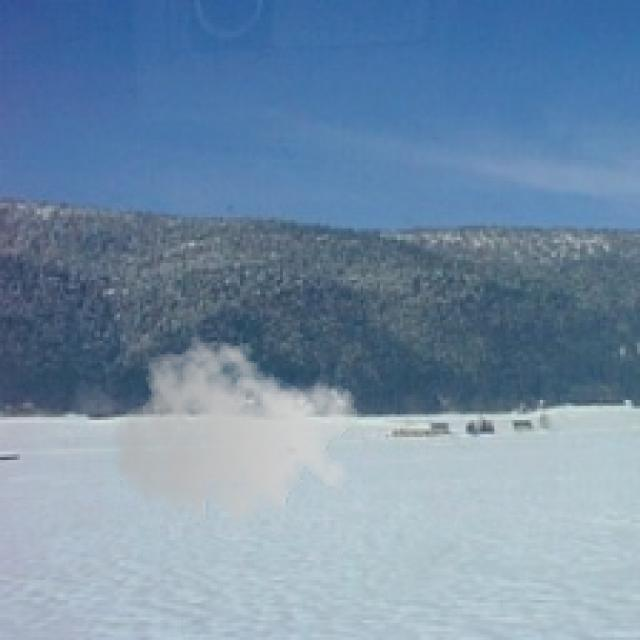smoke: (111, 328, 360, 546)
